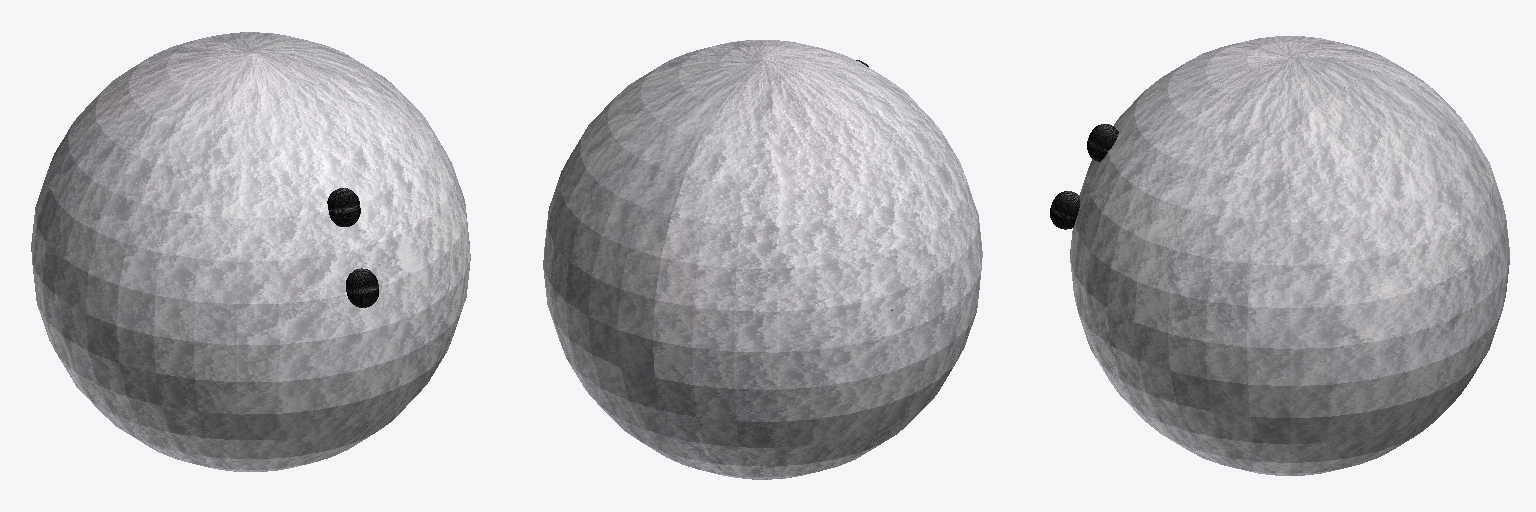
3 renders of one model, left to right at view 1: azimuth 30°, elevation 25°; view 2: azimuth 150°, elevation 25°; view 3: azimuth 270°, elevation 25°, orthographic.
Visible parts, largest first — view 1: muneco; view 2: muneco; view 3: muneco.
Part boxes in pixels (bbox=[...]): muneco: bbox=[31, 32, 470, 471]; muneco: bbox=[543, 40, 982, 479]; muneco: bbox=[1050, 36, 1509, 475].
Size of the model in its own units: 81.92 by 81.92 by 85.67.
Materials: 2 (2 with a texture image).